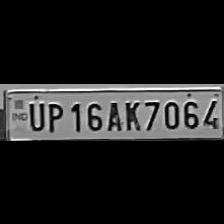0: (159, 97, 179, 128)
1: (65, 99, 83, 131)
4: (200, 96, 218, 128)
6: (84, 98, 104, 130), (180, 96, 198, 128)
7: (141, 97, 159, 130)
A: (105, 97, 123, 131)
K: (122, 97, 140, 131)
P: (44, 98, 64, 132)
U: (26, 98, 44, 130)
